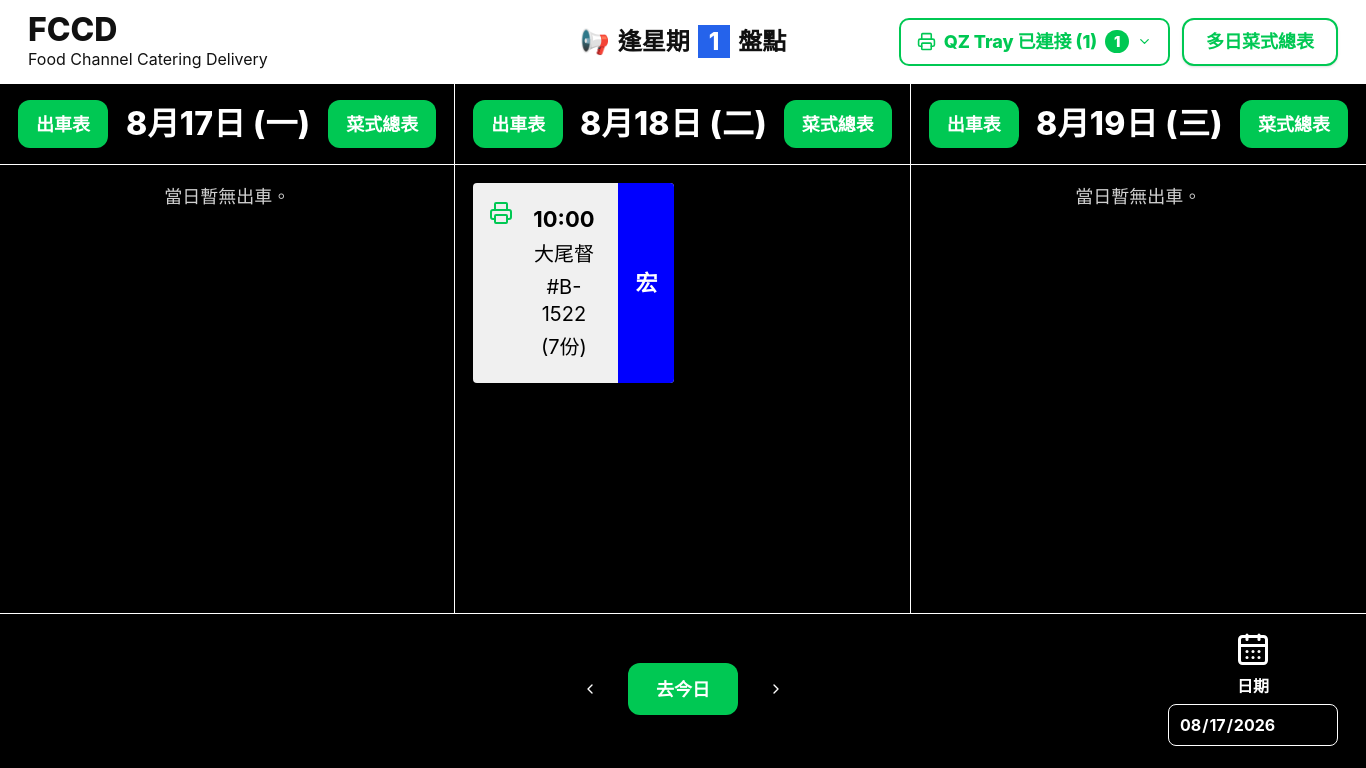
Scenario: FactoryBoardPage › opens the brand picker from 菜式總表 and submits the dish summary
Click the button "菜式總表" next to "8月18日 (二)" at (838, 124), box [784, 100, 892, 148]
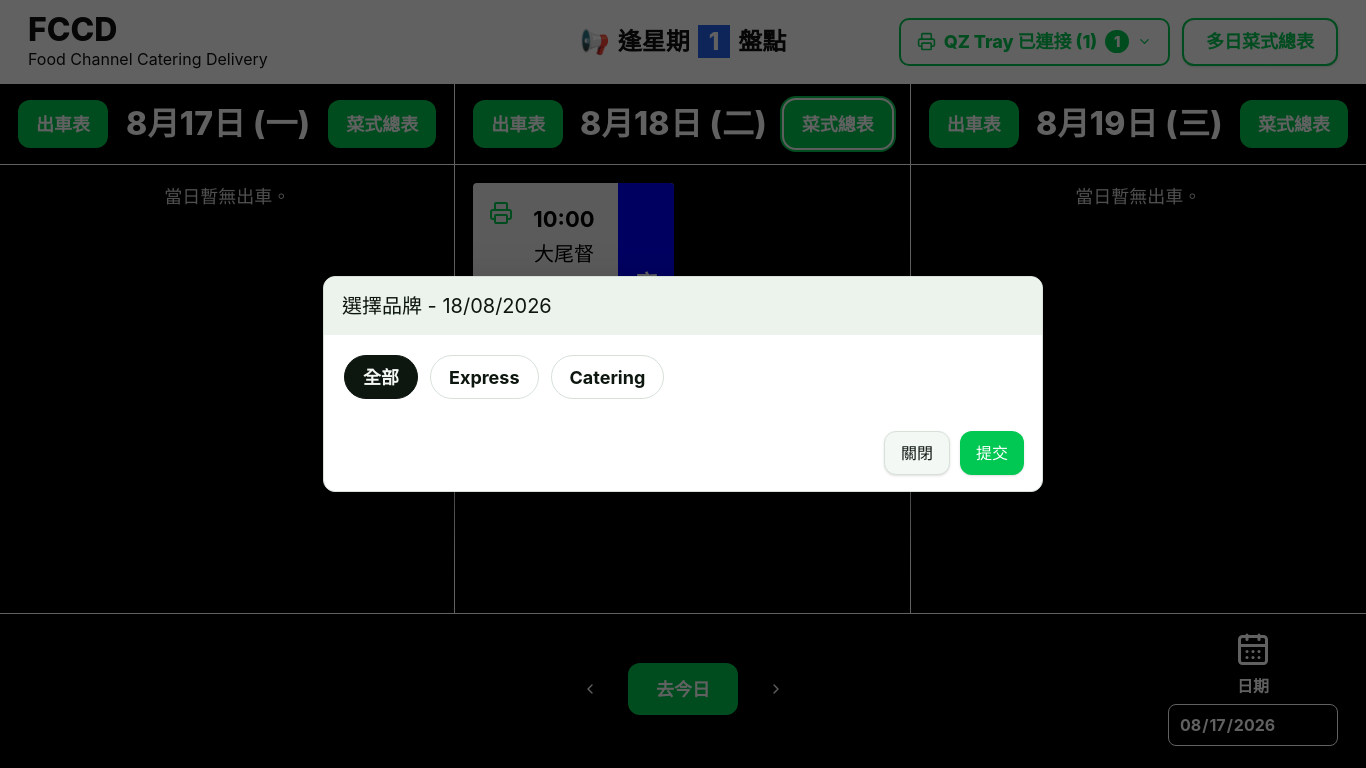
Now the heading "選擇品牌 - 18/08/2026" is shown, box [342, 291, 552, 321]
Now the button "全部" is shown, box [344, 355, 418, 399]
Now the button "Express" is shown, box [430, 355, 538, 399]
Click the button "Catering" at (607, 377), box [550, 355, 664, 399]
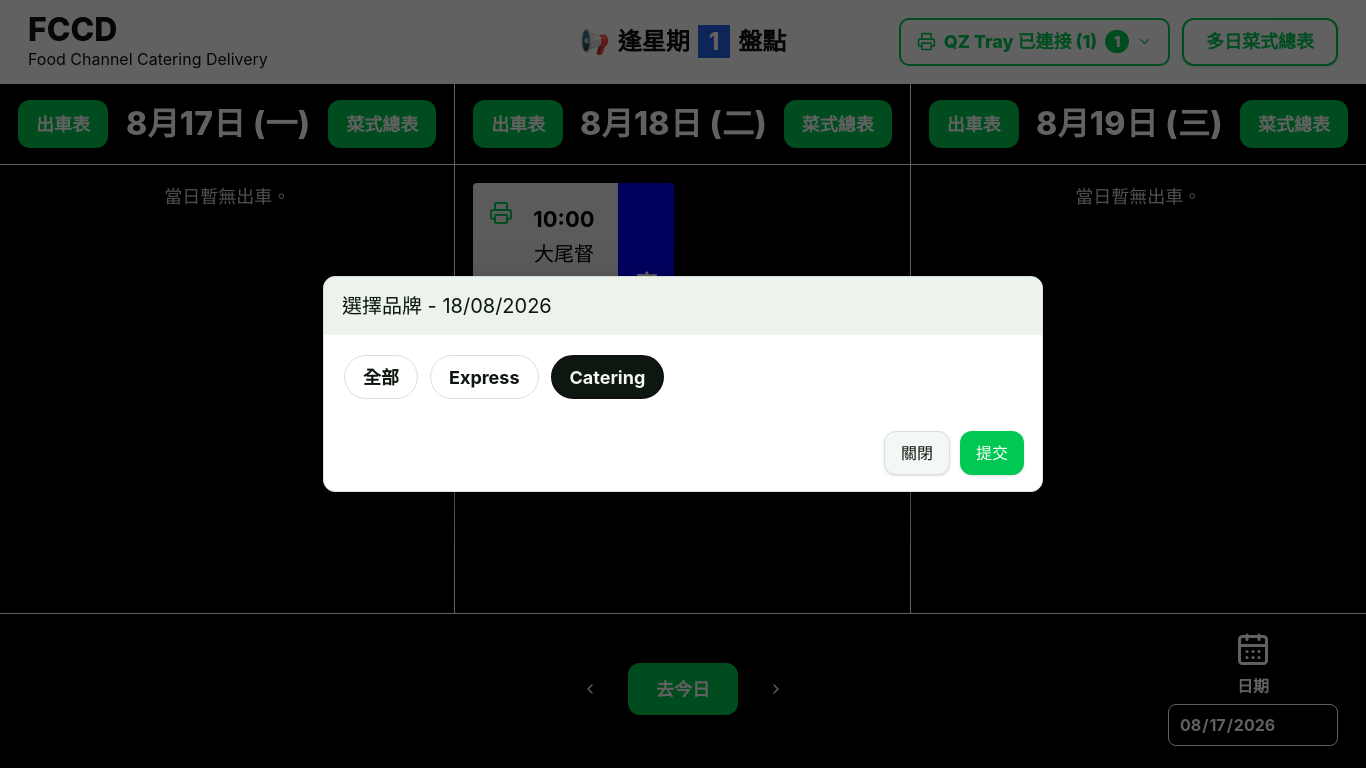
Click the button "提交" at (992, 453), box [960, 431, 1024, 475]
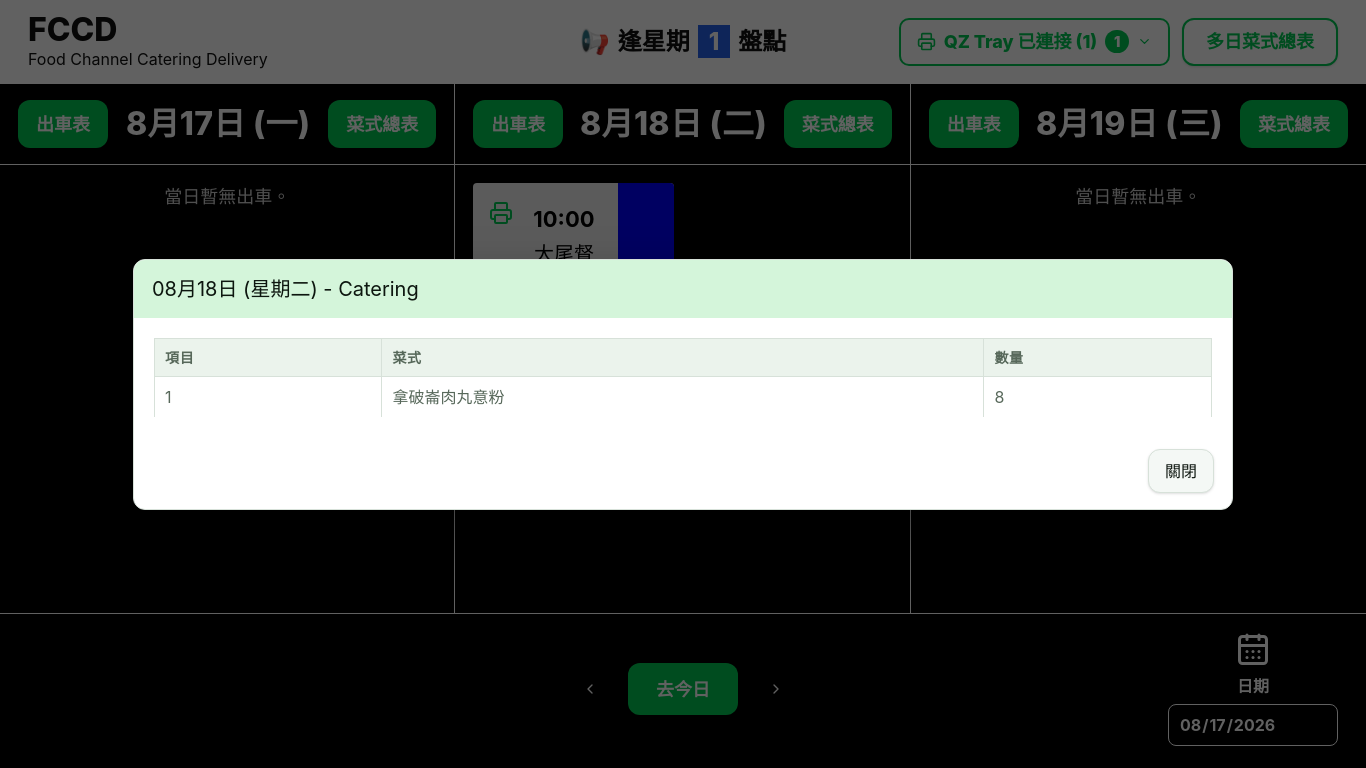
Now the heading "08月18日 (星期二) - Catering" is shown, box [152, 274, 419, 304]
Now the text "拿破崙肉丸意粉" is shown, box [382, 376, 984, 416]
Now the column heading "菜式" is shown, box [382, 338, 984, 376]
